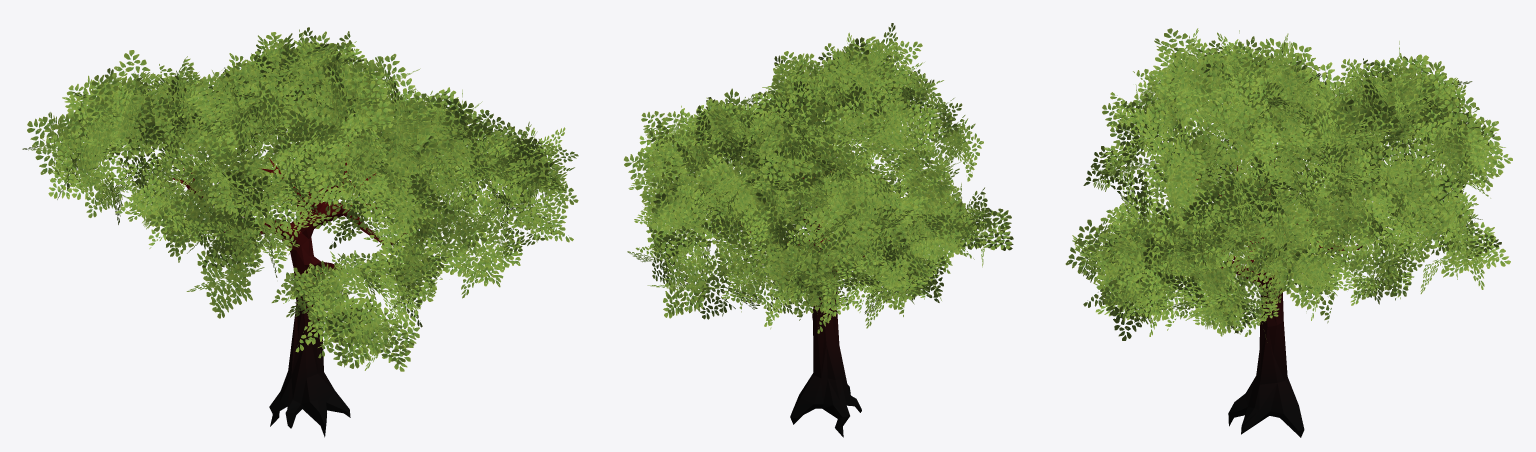
File: M_shu03.fbx
The picture shows the model from 3 angles, left to right: view 1: azimuth 30°, elevation 25°; view 2: azimuth 150°, elevation 25°; view 3: azimuth 270°, elevation 25°; orthographic projection. The views are drawn at different scales.
Parts seen in each view (by area): view 1: M_shu03_02, M_shu03_01; view 2: M_shu03_02, M_shu03_01; view 3: M_shu03_02, M_shu03_01.
Boxes of the visible parts, left/top/right/bottom form: M_shu03_02: left=22, top=27, right=578, bottom=371; M_shu03_01: left=172, top=142, right=417, bottom=437; M_shu03_02: left=624, top=23, right=1013, bottom=333; M_shu03_01: left=732, top=150, right=897, bottom=437; M_shu03_02: left=1065, top=28, right=1512, bottom=340; M_shu03_01: left=1172, top=160, right=1372, bottom=437.
Bounding box in the file's own units: 13.5 × 12.04 × 12.7.
